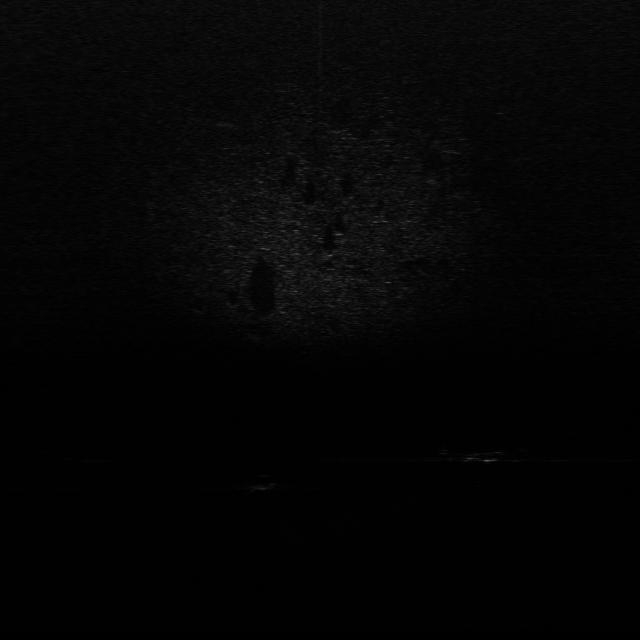ball: (244, 470, 280, 493)
human body: (427, 441, 544, 466)
